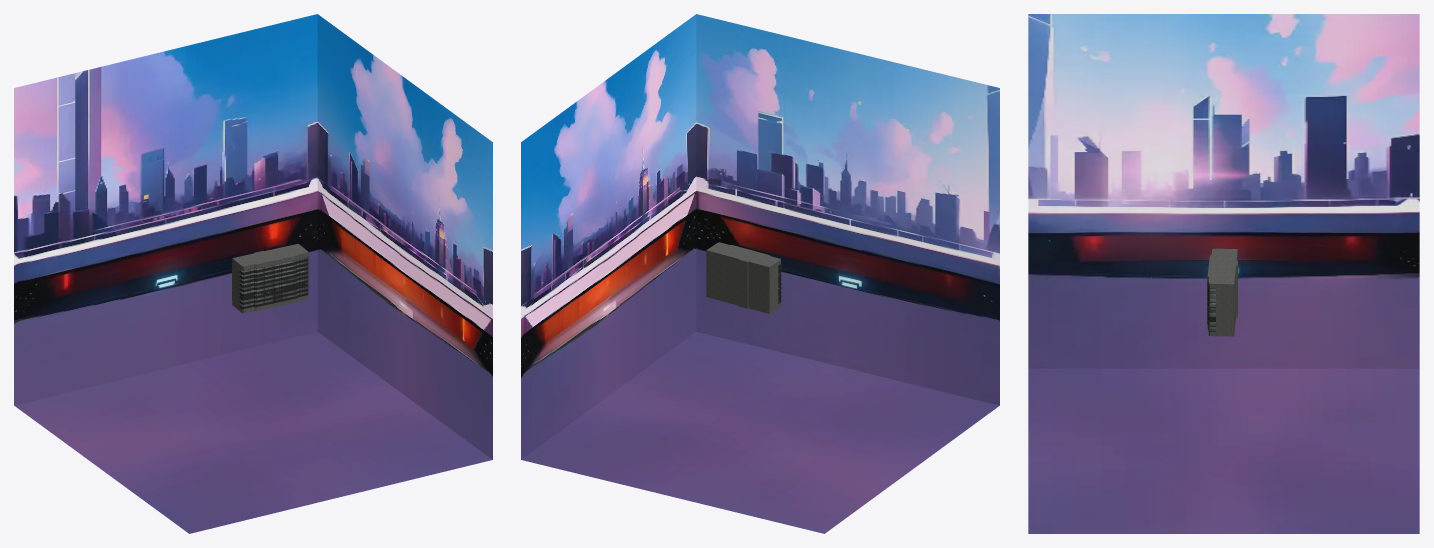
Rendered from Commodore710_33.5.glb.
3 views of the same model, side by side, from view 1: azimuth 30°, elevation 25°; view 2: azimuth 150°, elevation 25°; view 3: azimuth 270°, elevation 25° (orthographic). The views are drawn at different scales.
Parts seen in each view (by area): view 1: Cube, BLD_OFFICE_01_glass_0, BLD_OFFICE_00_walls_exterior_0, BLD_OFFICE_05_walls [BLD_OFFICE_05]_0, BLD_OFFICE_02_rams_0, BLD_OFFICE_09_w2_0; view 2: Cube, BLD_OFFICE_06_w2_0, BLD_OFFICE_09_w2_0; view 3: Cube, BLD_OFFICE_09_w2_0, BLD_OFFICE_06_w2_0.
Part boxes in pixels (x1=…): Cube: x1=14, y1=14, x2=492, y2=533; BLD_OFFICE_01_glass_0: x1=240, y1=256, x2=308, y2=308; BLD_OFFICE_00_walls_exterior_0: x1=239, y1=258, x2=307, y2=308; BLD_OFFICE_05_walls [BLD_OFFICE_05]_0: x1=240, y1=258, x2=308, y2=306; BLD_OFFICE_02_rams_0: x1=239, y1=256, x2=308, y2=309; BLD_OFFICE_09_w2_0: x1=232, y1=243, x2=308, y2=270; Cube: x1=521, y1=14, x2=999, y2=533; BLD_OFFICE_06_w2_0: x1=706, y1=254, x2=778, y2=309; BLD_OFFICE_09_w2_0: x1=706, y1=242, x2=780, y2=271; Cube: x1=1028, y1=14, x2=1419, y2=533; BLD_OFFICE_09_w2_0: x1=1207, y1=248, x2=1237, y2=288; BLD_OFFICE_06_w2_0: x1=1216, y1=256, x2=1237, y2=331.
Size of what is drawn, in the model's own units: 1325 by 1325 by 1325.
22 materials, 11 textured.
